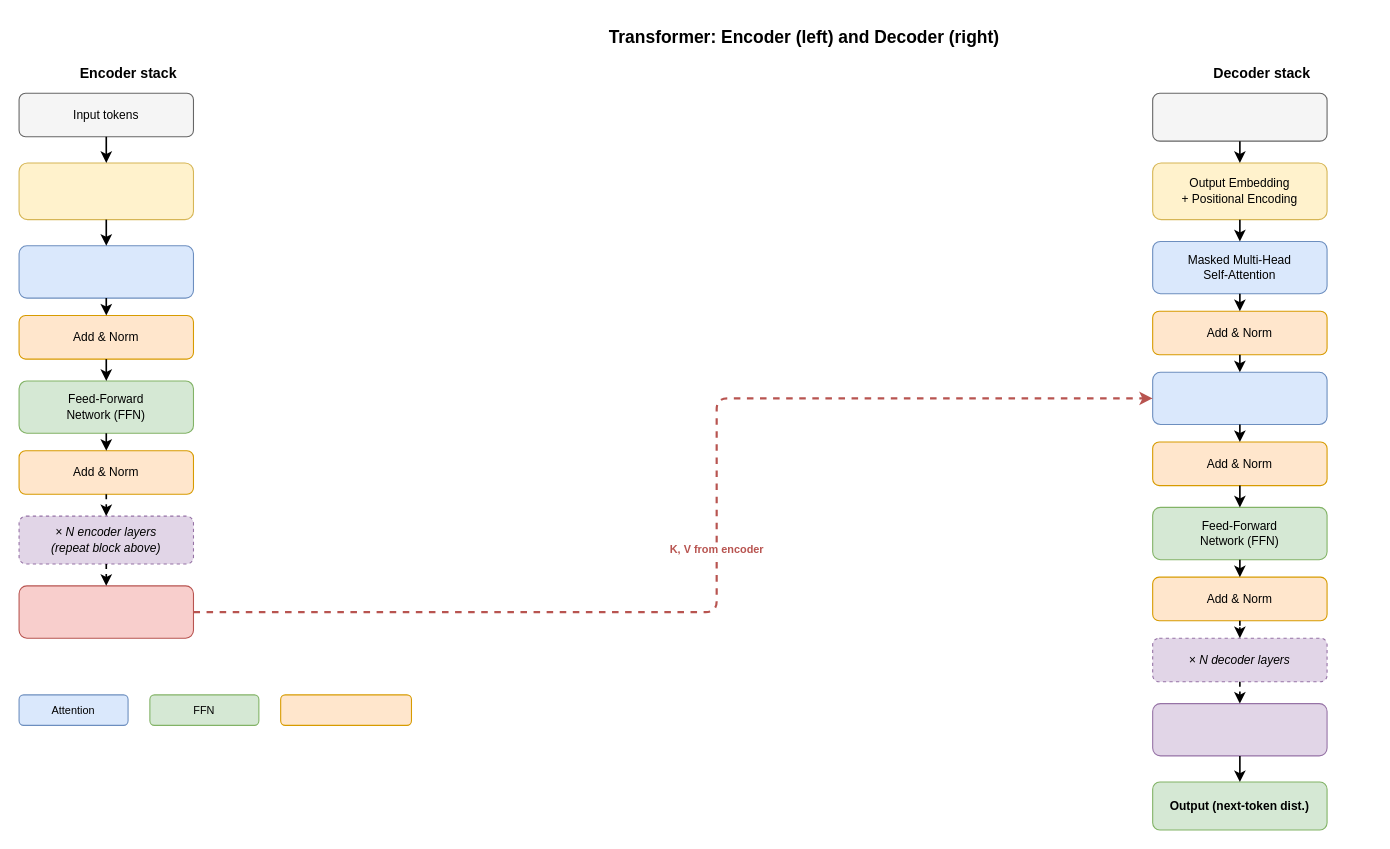
This 1390x849 diagram has some shape labels left out. The centre of each missing label's shape, as x and y in pixels:
"Encoder output (memory to decoder)" goes at point (105, 611).
"Input Embedding + Positional Encoding" goes at point (105, 191).
"Linear + Softmax → probabilities" goes at point (1239, 729).
"Multi-Head Cross-Attention" goes at point (1239, 398).
"Multi-Head Self-Attention" goes at point (105, 271).
"Norm (Add&Norm)" goes at point (345, 709).
"Output tokens (shifted right)" goes at point (1239, 116).
